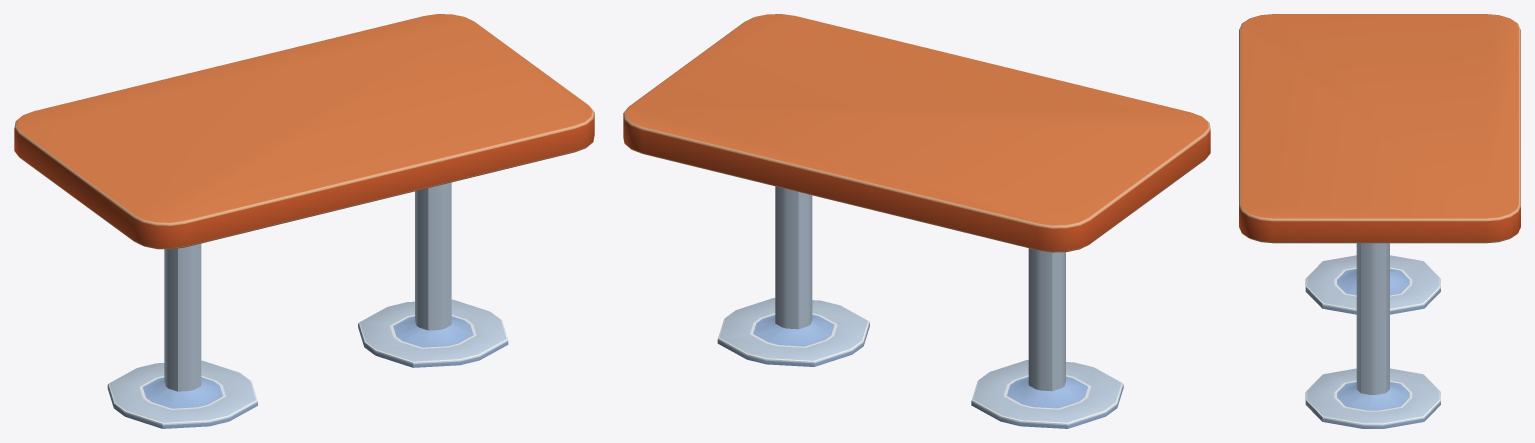
Rendered from CafeTable.fbx.
The picture shows the model from 3 angles, left to right: view 1: azimuth 30°, elevation 25°; view 2: azimuth 150°, elevation 25°; view 3: azimuth 270°, elevation 25°; orthographic projection. The views are drawn at different scales.
Parts seen in each view (by area): view 1: TableUp, TableUnder; view 2: TableUp, TableUnder; view 3: TableUp, TableUnder.
Part boxes in pixels (x1,y1,x2,y2): TableUp: (14,14,594,249); TableUnder: (107,182,508,428); TableUp: (623,14,1210,252); TableUnder: (717,186,1123,428); TableUp: (1239,14,1520,243); TableUnder: (1305,243,1440,428).
Bounding box in the file's own units: 363 × 187 × 209.
